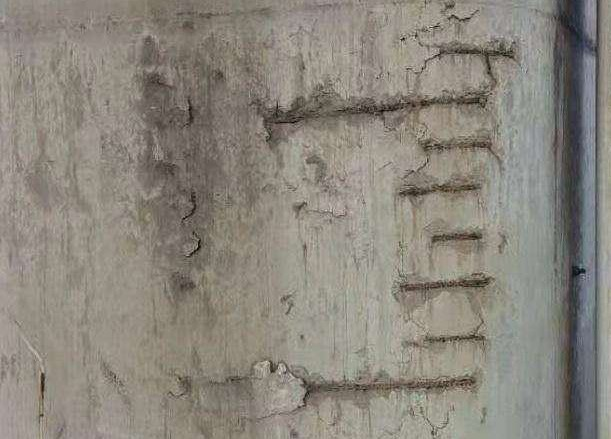Exposed reinforcement: (273, 96, 481, 125), (308, 377, 476, 394), (398, 272, 490, 293), (398, 183, 483, 199), (420, 138, 492, 151), (421, 333, 486, 345), (455, 48, 513, 59), (431, 232, 482, 244), (37, 370, 46, 419)
